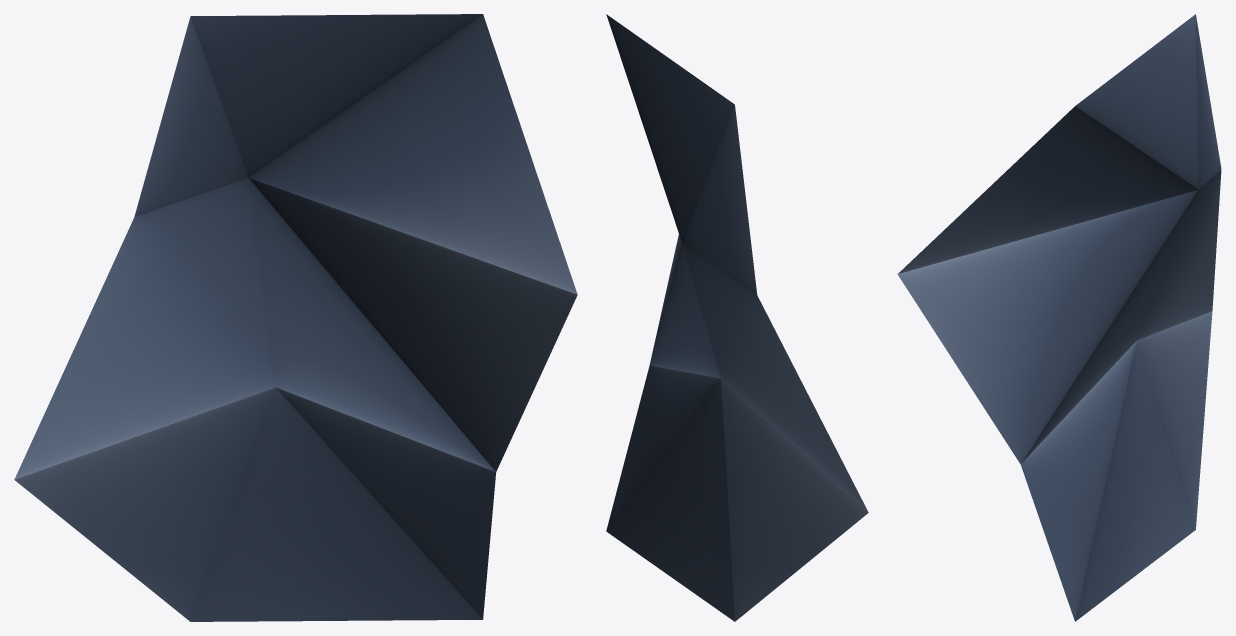
File: SM_Wall_Edge_C_A.fbx
3 renders of one model, left to right at view 1: azimuth 30°, elevation 25°; view 2: azimuth 150°, elevation 25°; view 3: azimuth 270°, elevation 25°, orthographic. The views are drawn at different scales.
Visible parts, largest first — view 1: pCube201; view 2: pCube201; view 3: pCube201.
Part boxes in pixels (<box>): pCube201: <box>14,14,577,621</box>; pCube201: <box>606,14,868,621</box>; pCube201: <box>897,14,1221,621</box>.
Bounding box in the file's own units: 0.6705 × 1 × 0.5692.
